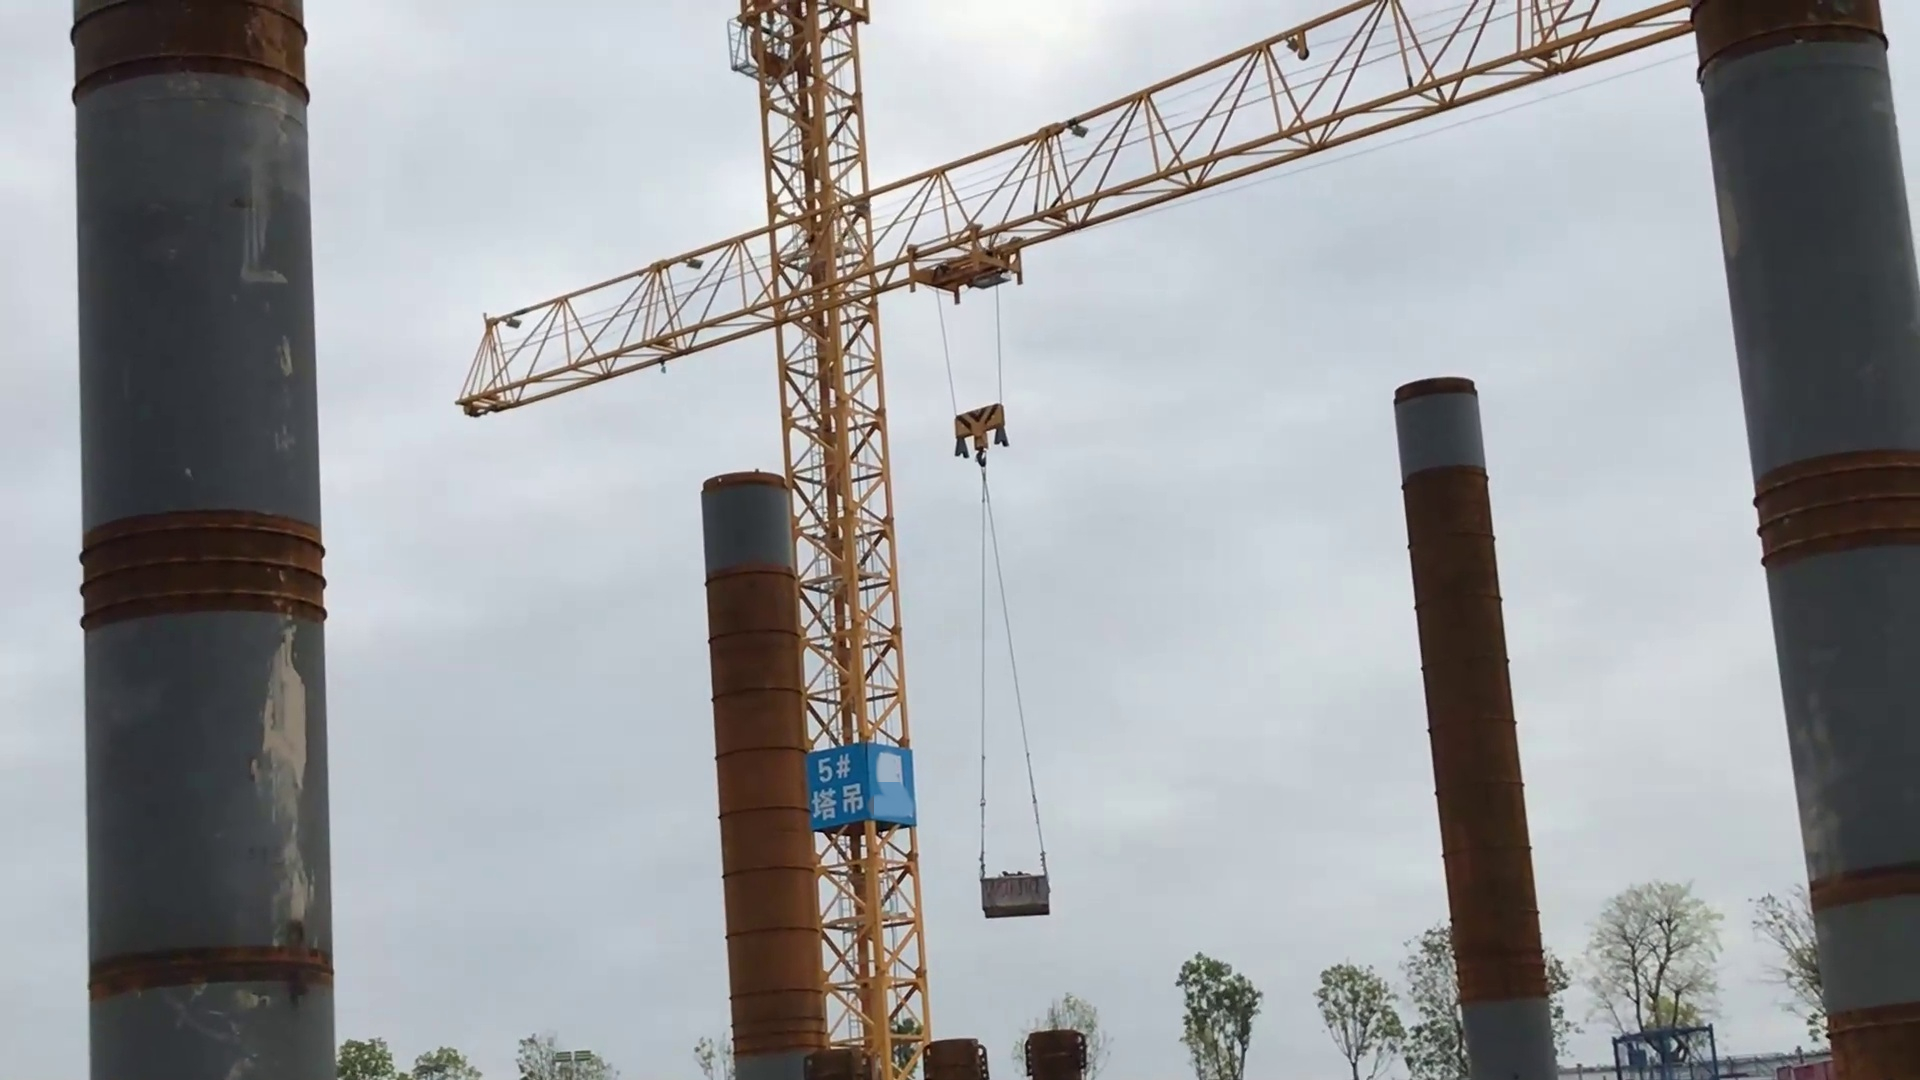hook: (949, 397, 1015, 469)
hopper: (976, 869, 1065, 920)
